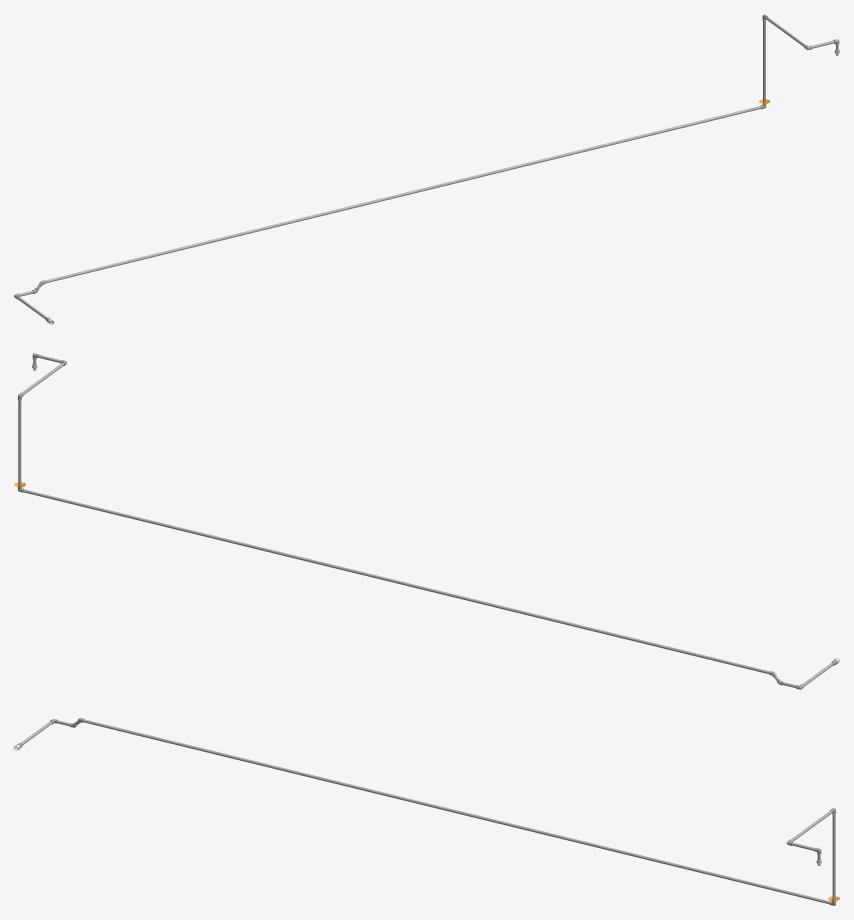
The model's file is pipes_supply__water-city_filter_and_softener-yes_and_plumbing-galvanized.glb.
3 views of the same model, one above another, from view 1: azimuth 30°, elevation 25°; view 2: azimuth 150°, elevation 25°; view 3: azimuth 330°, elevation 25° (orthographic). The views are drawn at different scales.
Parts seen in each view (by area): view 1: pipe_supply_to_softener__galvanized; view 2: pipe_supply_to_softener__galvanized; view 3: pipe_supply_to_softener__galvanized.
Part boxes in pixels (x1=…): pipe_supply_to_softener__galvanized: x1=17, y1=16, x2=838, y2=319; pipe_supply_to_softener__galvanized: x1=18, y1=354, x2=833, y2=687; pipe_supply_to_softener__galvanized: x1=21, y1=719, x2=835, y2=904.
Bounding box in the file's own units: 8.09 × 1 × 0.8506.
